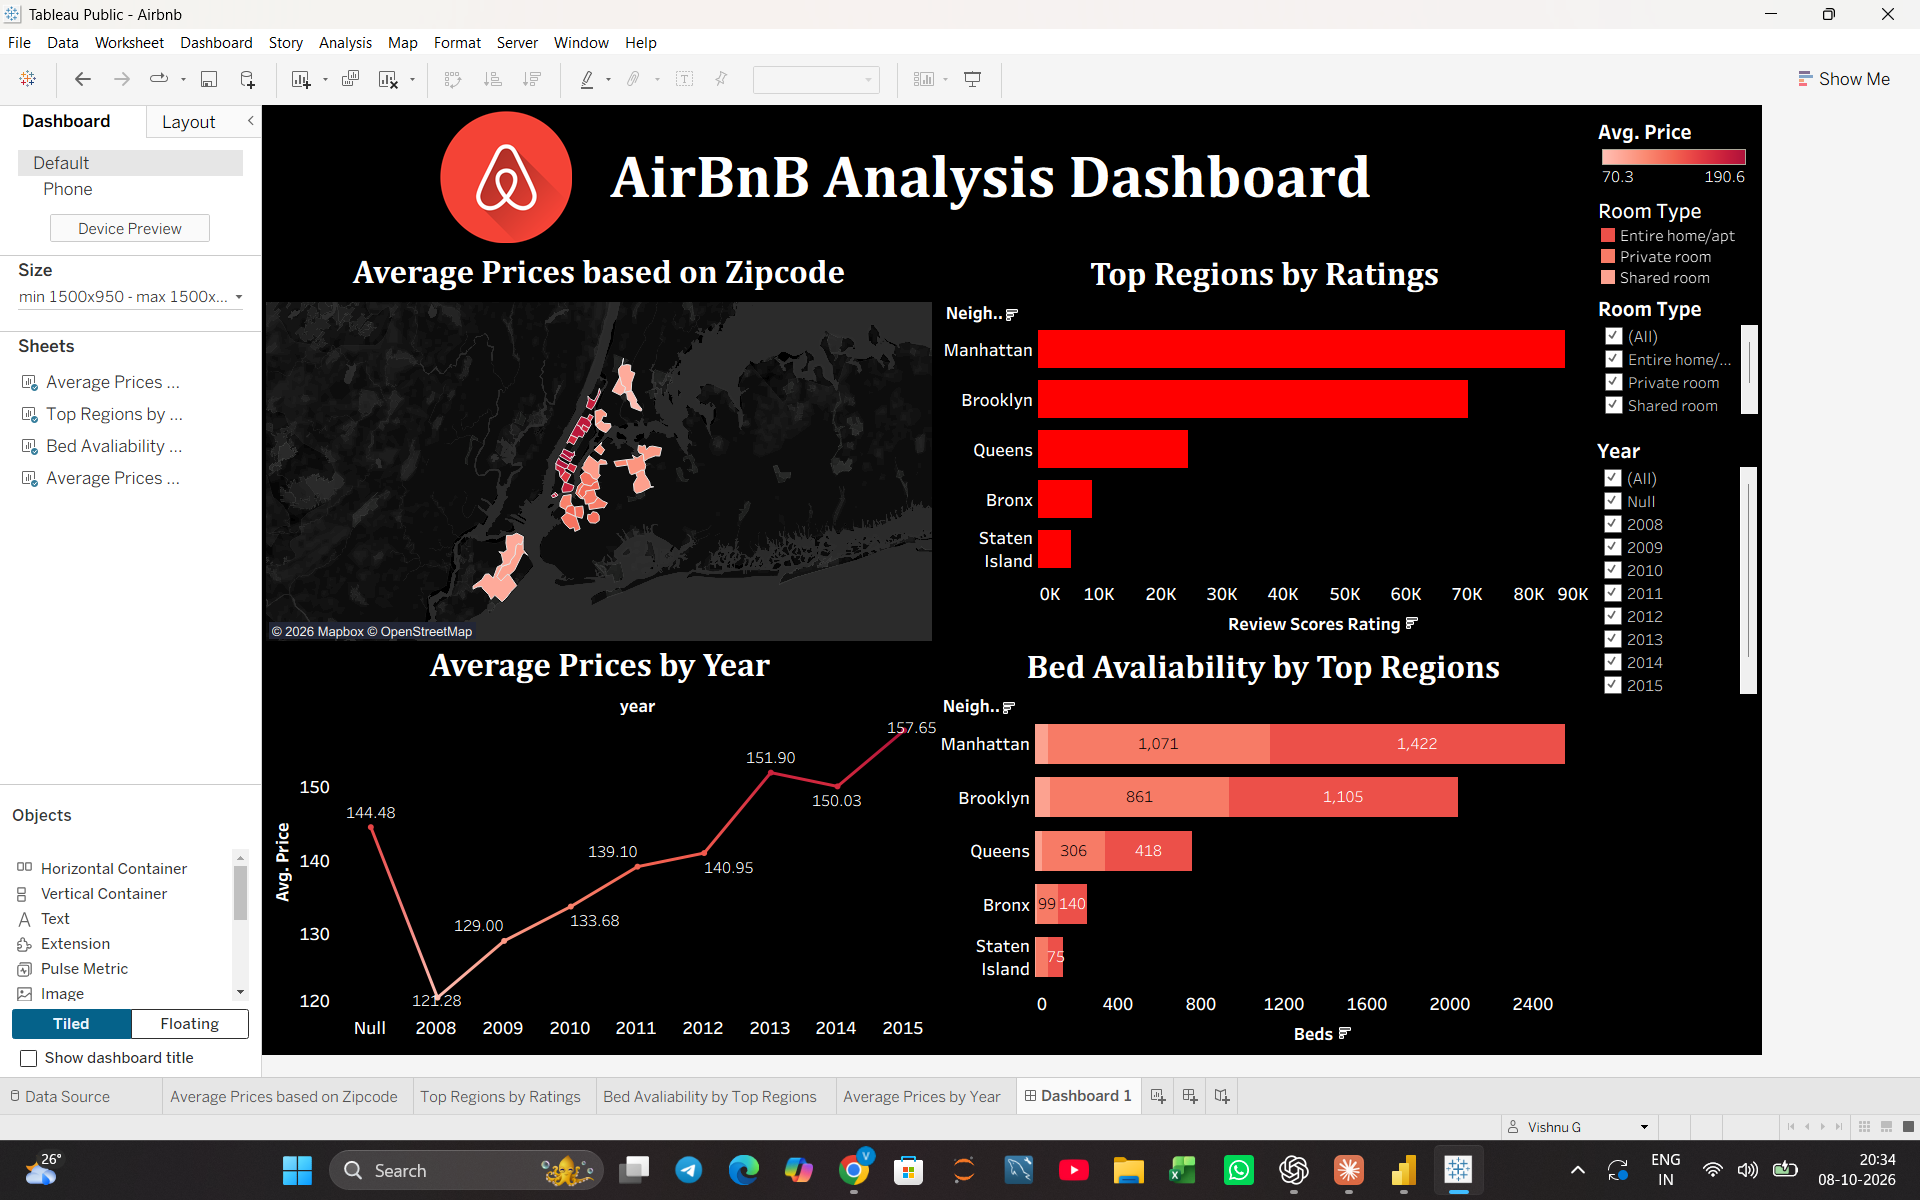

The dashboard page shown, as its layout file describes it:
{"tool":"tableau","page":{"name":"Dashboard 1","canvas":[1500,950],"ordinal":0},"visuals":[{"type":"text","box":[314,3,830,134]},{"type":"image","param":"C:/Users/VISHNU/Downloads/airbnb.png","box":[178,6,136,132]},{"type":"legend","title":"Average Prices based on Zipcode","param":"[federated.0lwvkcj1lfd35k1cu5o7b11ugq0n].[avg:Price:qk]","box":[1332,8,160,79]},{"type":"legend","title":"Bed Avaliability by Top Regions","param":"[federated.0lwvkcj1lfd35k1cu5o7b11ugq0n].[none:Room Type:nk]","box":[1332,87,160,100]},{"type":"worksheet","title":"Average Prices based on Zipcode","mark":"Multipolygon","box":[4,143,666,393]},{"type":"worksheet","title":"Top Regions by Ratings","mark":"Automatic","rows":["Neighbourhood"],"cols":["Review Scores Rating"],"box":[676,145,653,392]},{"type":"filter","title":"Top Regions by Ratings","param":"[federated.0lwvkcj1lfd35k1cu5o7b11ugq0n].[none:Room Type:nk]","box":[1336,189,160,120]},{"type":"filter","title":"Top Regions by Ratings","param":"[federated.0lwvkcj1lfd35k1cu5o7b11ugq0n].[none:Calculation_0853549388308480:ok]","box":[1335,331,160,258]},{"type":"worksheet","title":"Average Prices by Year","mark":"Line","rows":["Price"],"cols":["Calculation_0853549388308480"],"box":[1,536,674,399]},{"type":"worksheet","title":"Bed Avaliability by Top Regions","mark":"Automatic","rows":["Neighbourhood"],"cols":["Beds"],"box":[673,538,657,409]}]}

Visuals, with their boxes on the page's 1500x950 design canvas (x1, y1, x2, y2). These are canvas units, not pixel positions in the 1920x1200 screenshot, which may show the page scaled, cropped or inside an application window:
text: Rect(314, 3, 1144, 137)
image: Rect(178, 6, 314, 138)
"Average Prices based on Zipcode" legend: Rect(1332, 8, 1492, 87)
"Bed Avaliability by Top Regions" legend: Rect(1332, 87, 1492, 187)
"Average Prices based on Zipcode" worksheet (Multipolygon marks): Rect(4, 143, 670, 536)
"Top Regions by Ratings" worksheet: Rect(676, 145, 1329, 537)
"Top Regions by Ratings" filter: Rect(1336, 189, 1496, 309)
"Top Regions by Ratings" filter: Rect(1335, 331, 1495, 589)
"Average Prices by Year" worksheet (Line marks): Rect(1, 536, 675, 935)
"Bed Avaliability by Top Regions" worksheet: Rect(673, 538, 1330, 947)
